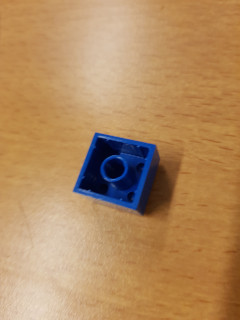2x2 blue: (73, 131, 161, 218)
